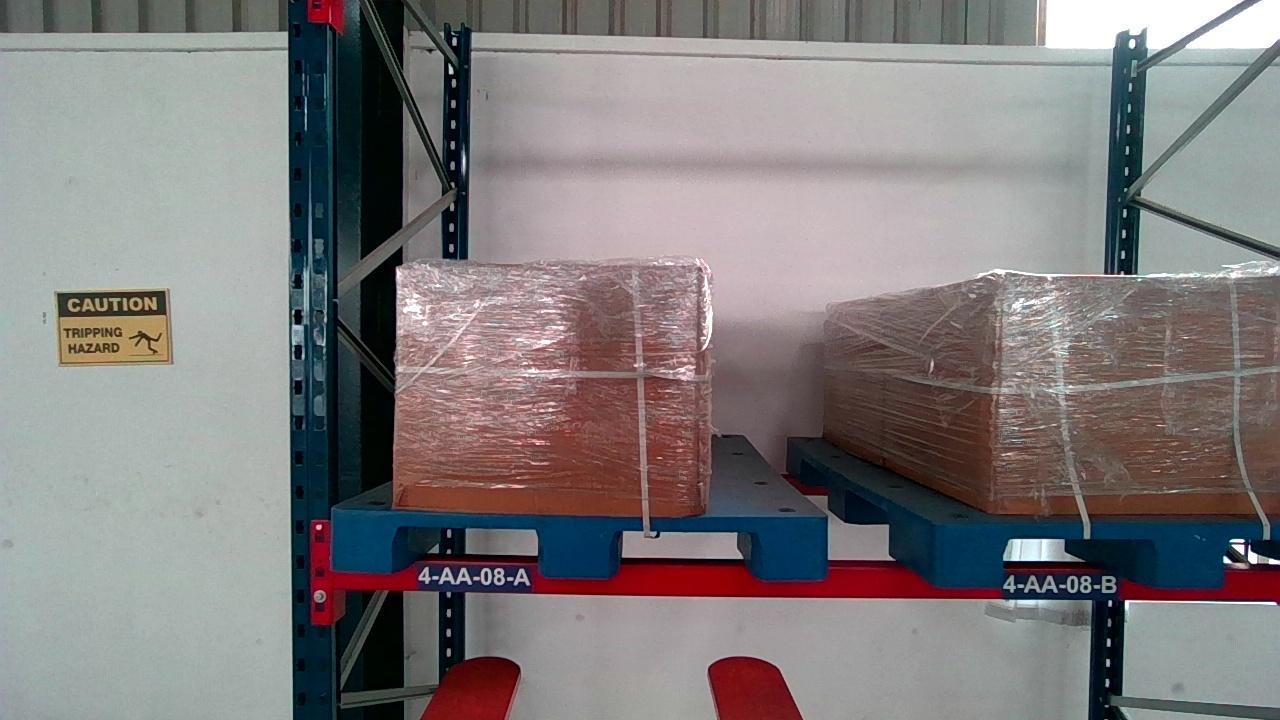h_rack: (323, 556, 1280, 597)
small_pallet: (324, 509, 828, 578), (947, 524, 1280, 589)
